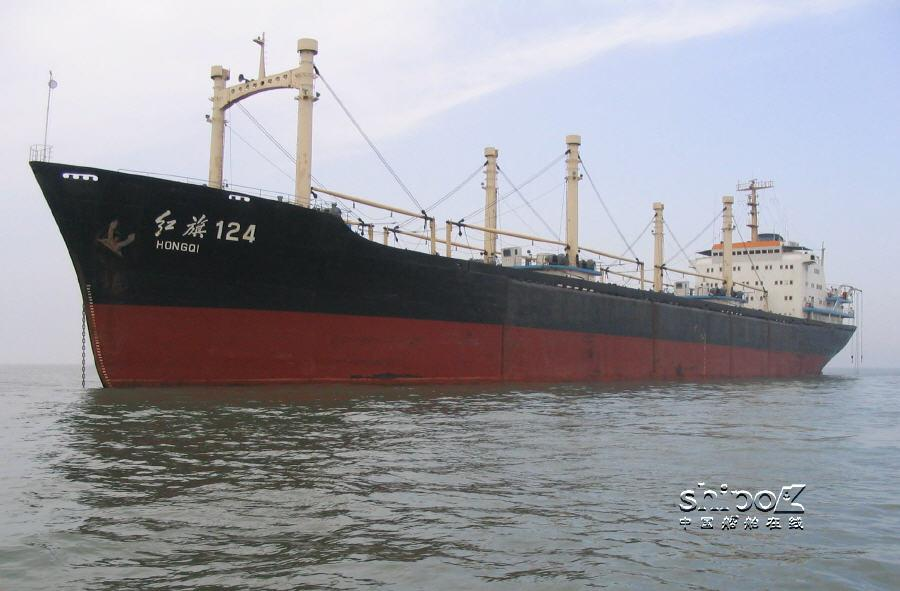Cargoship: (23, 37, 859, 389)
